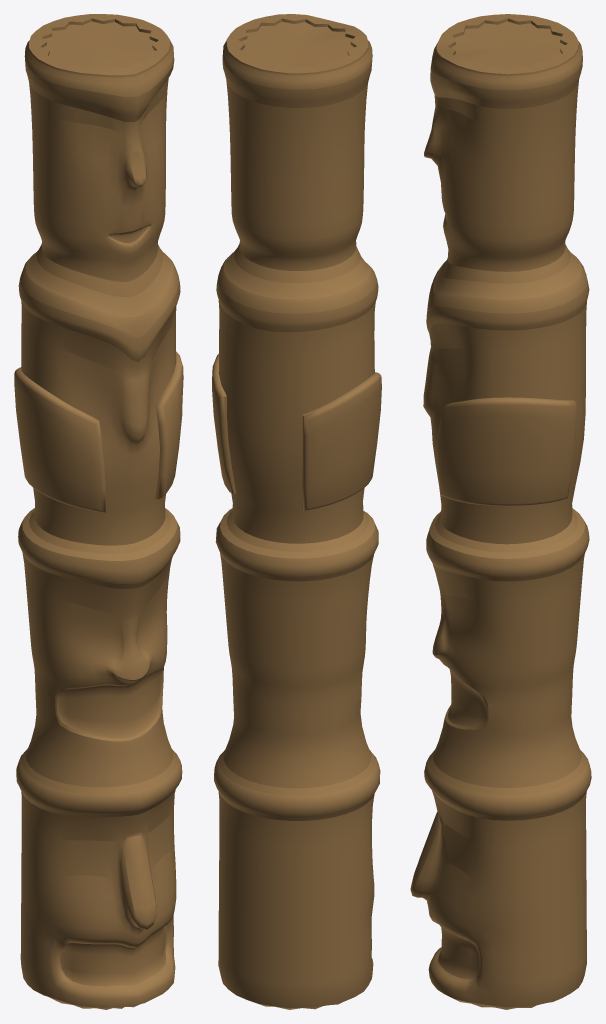
The model's file is totem_01.fbx.
3 renders of one model, left to right at view 1: azimuth 30°, elevation 25°; view 2: azimuth 150°, elevation 25°; view 3: azimuth 270°, elevation 25°, orthographic.
Parts seen in each view (by area): view 1: TOTEM_01; view 2: TOTEM_01; view 3: TOTEM_01.
Part boxes in pixels (x1,y1,x2,y2): TOTEM_01: [14, 14, 183, 1009]; TOTEM_01: [212, 14, 381, 1009]; TOTEM_01: [410, 14, 591, 1009].
Size of the model in its own units: 210 by 1281 by 223.
